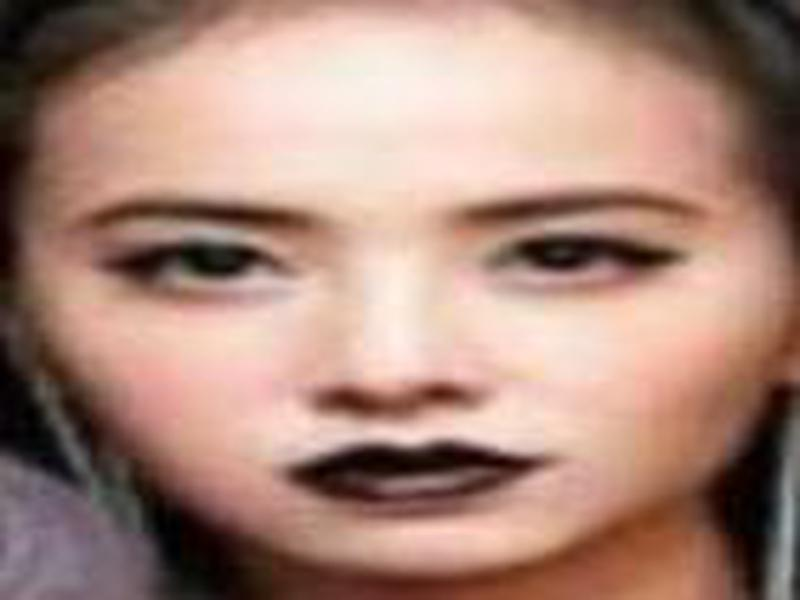without_mask: (21, 85, 764, 585)
